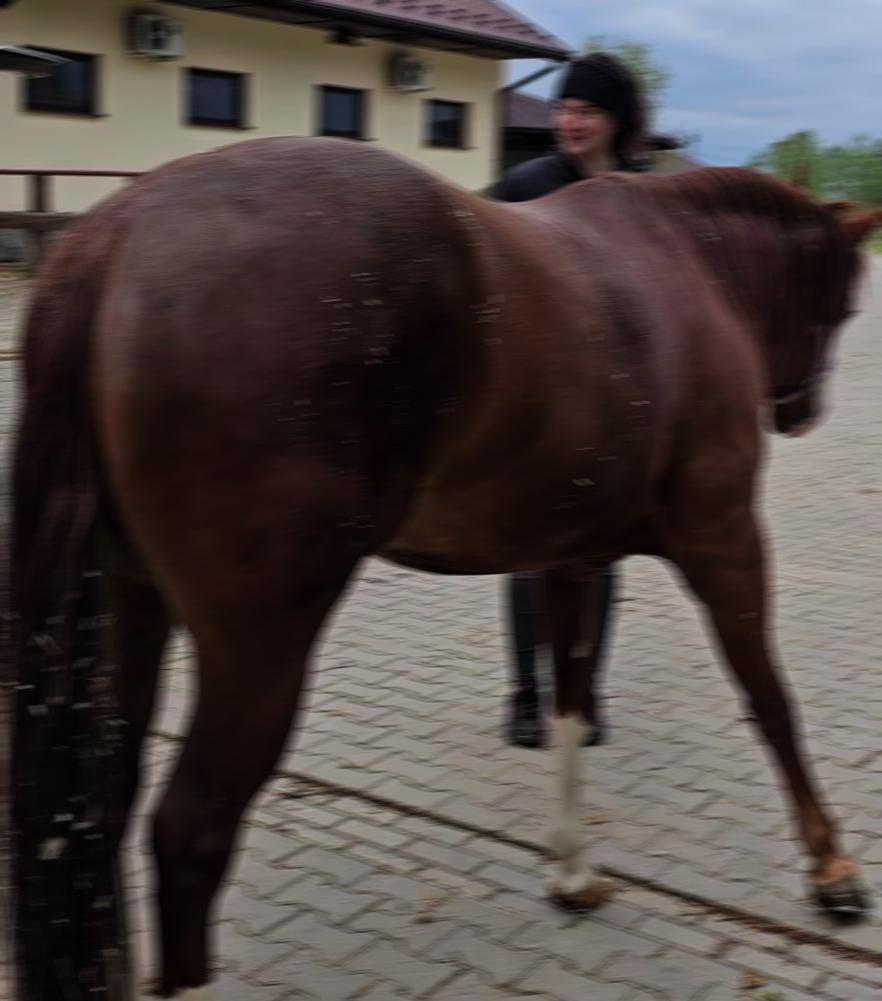horse: (0, 133, 882, 999)
